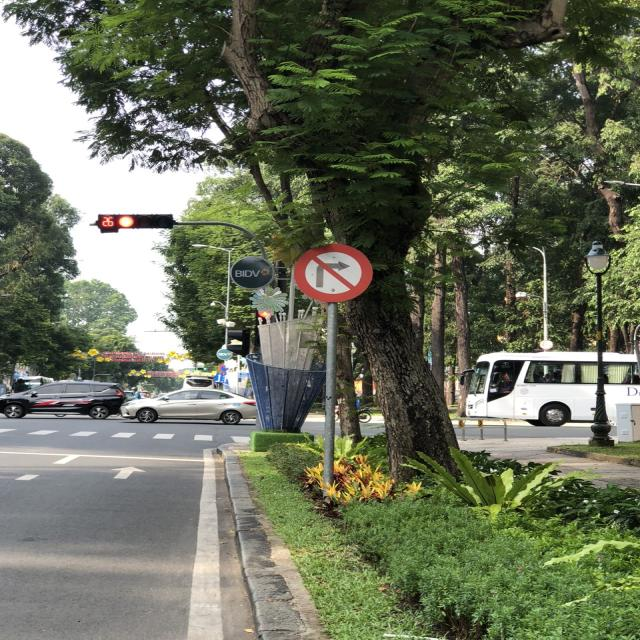Bien bao cam re phai: (288, 236, 378, 304)
